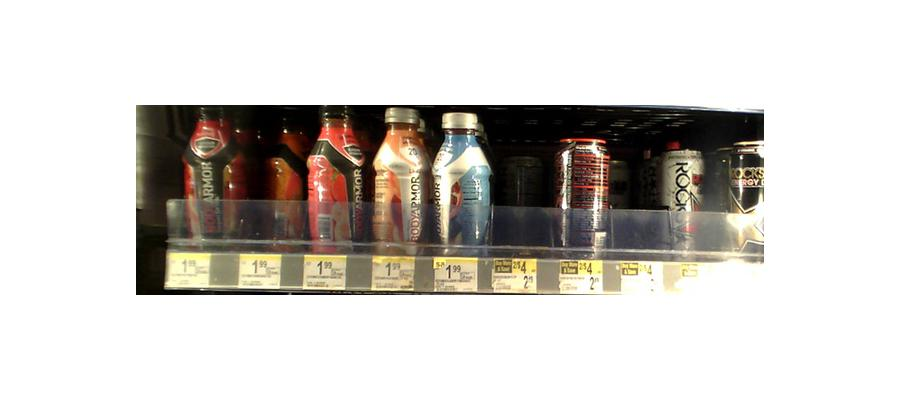bottle: (307, 99, 368, 251), (432, 109, 493, 260), (370, 105, 428, 254), (181, 107, 239, 244), (552, 138, 611, 257), (258, 105, 305, 249), (719, 138, 767, 256), (499, 149, 546, 256), (663, 141, 708, 251)
